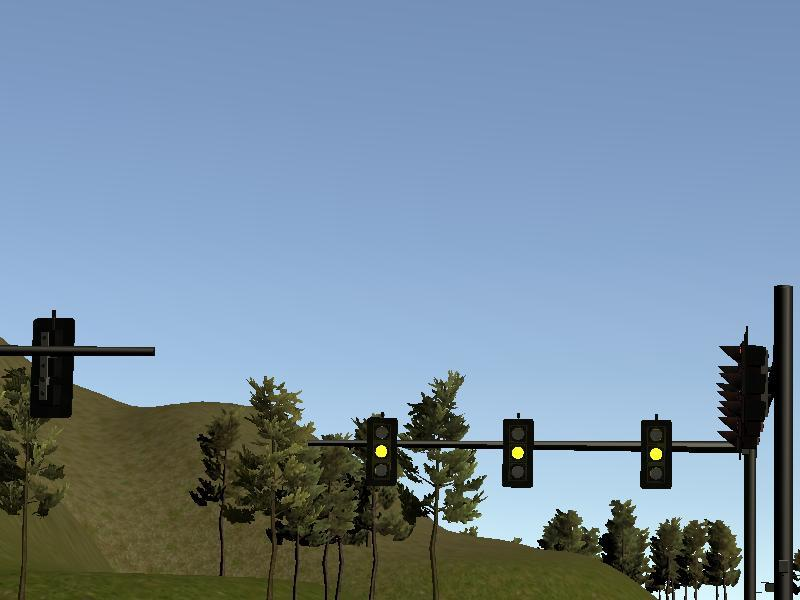Yellow: (366, 417, 398, 486), (640, 420, 672, 489), (503, 420, 534, 488)
